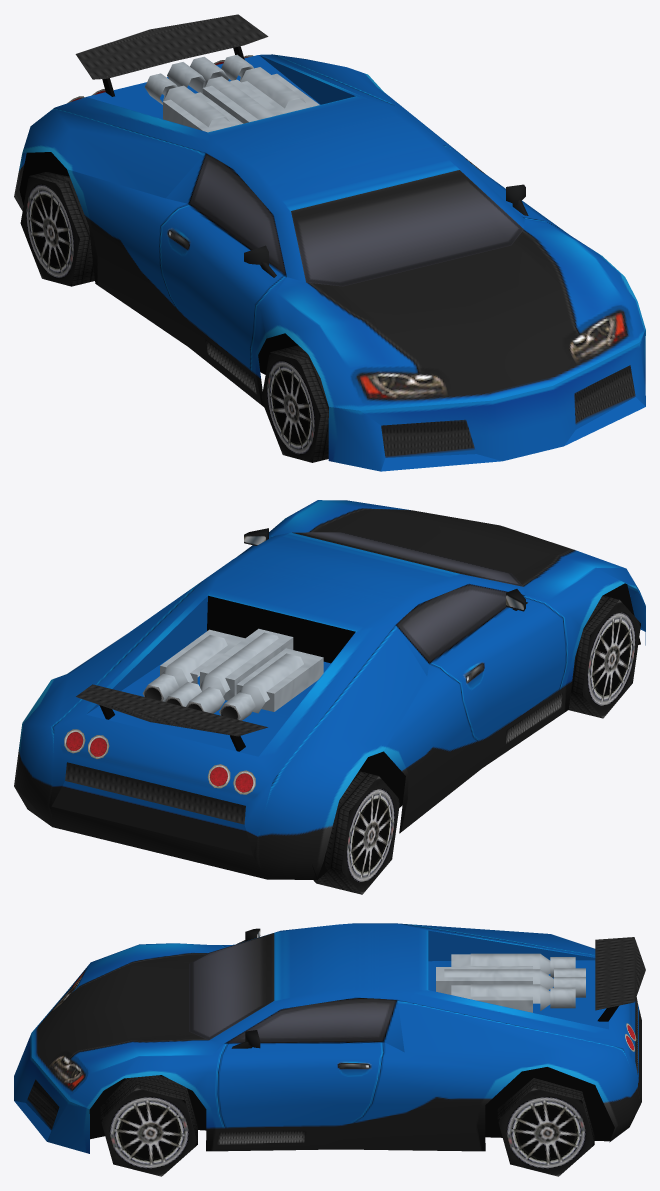
Rendered from HighPerformanceExotic_LOD2.fbx.
3 views of the same model, one above another, from view 1: azimuth 30°, elevation 25°; view 2: azimuth 150°, elevation 25°; view 3: azimuth 270°, elevation 25° (orthographic). The views are drawn at different scales.
Parts seen in each view (by area): view 1: Chassis, RR_Wheel, RF_Wheel; view 2: Chassis, RR_Wheel, RF_Wheel; view 3: Chassis, LF_Wheel, LR_Wheel.
Boxes of the visible parts, box(x1,y1,x2,y2) form: Chassis: box(14, 14, 645, 471); RR_Wheel: box(20, 172, 94, 286); RF_Wheel: box(261, 345, 328, 462); Chassis: box(14, 500, 645, 880); RR_Wheel: box(313, 771, 400, 894); RF_Wheel: box(568, 595, 640, 718); Chassis: box(14, 923, 645, 1153); LF_Wheel: box(100, 1075, 197, 1176); LR_Wheel: box(497, 1078, 594, 1176).
Bounding box in the file's own units: 2.45 × 1.38 × 5.07.
Materials: 2 (2 with a texture image).
